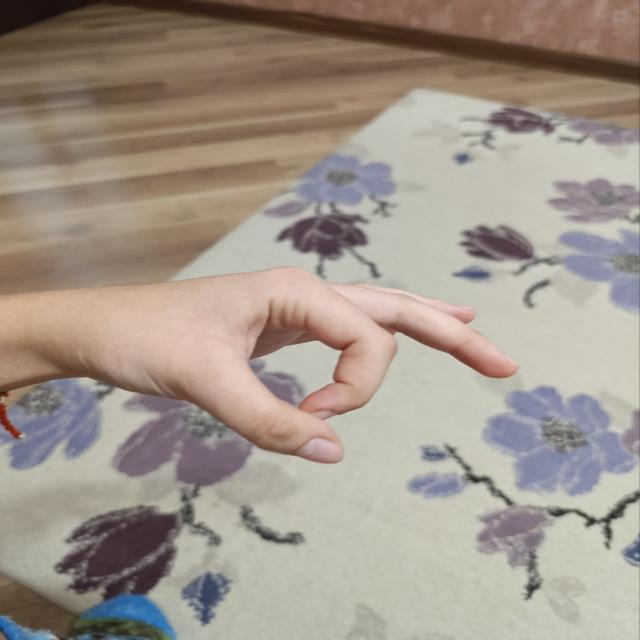o: (146, 233, 511, 477)
